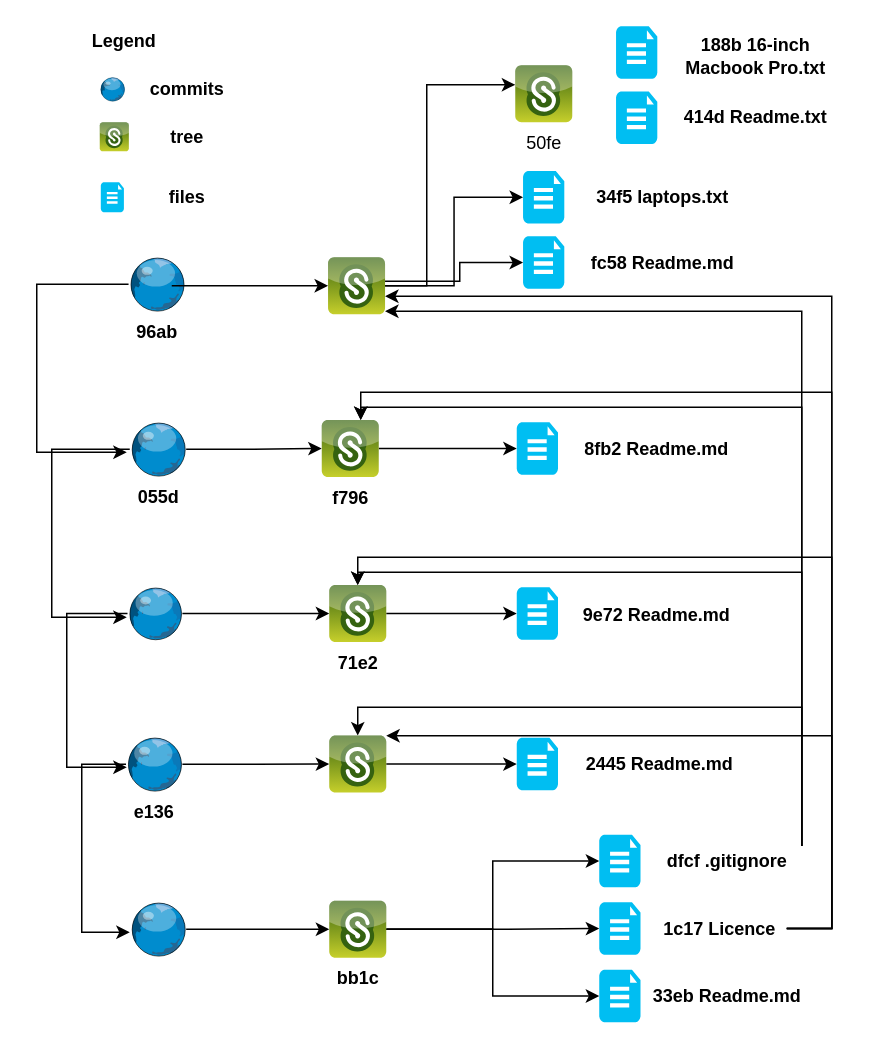
Image size: 870x1047. Some labels were removed from this diagram. The shapes that lost their labels are listed below. From the top down, each one's centre as x and y in pixels, then its label:
At pixel 355 285: "d866".
At pixel 154 612: "2e3d".
At pixel 357 763: "954e".
At pixel 157 928: "3a36".
